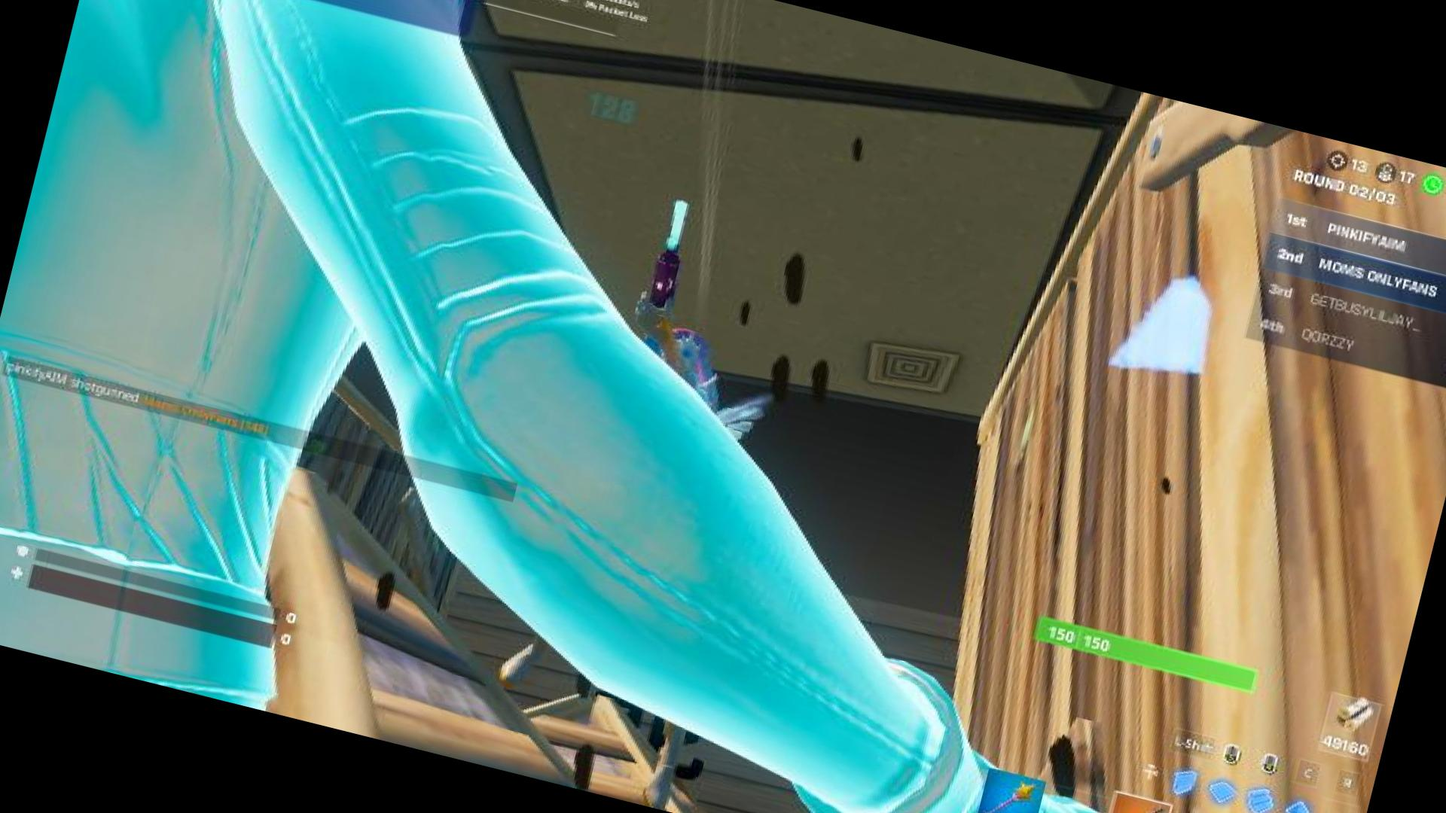player: (619, 295, 762, 407)
